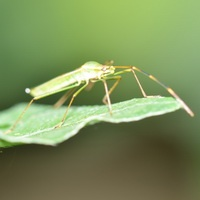insect: (0, 61, 193, 146), (105, 71, 145, 105), (133, 69, 173, 97), (70, 80, 107, 108)
